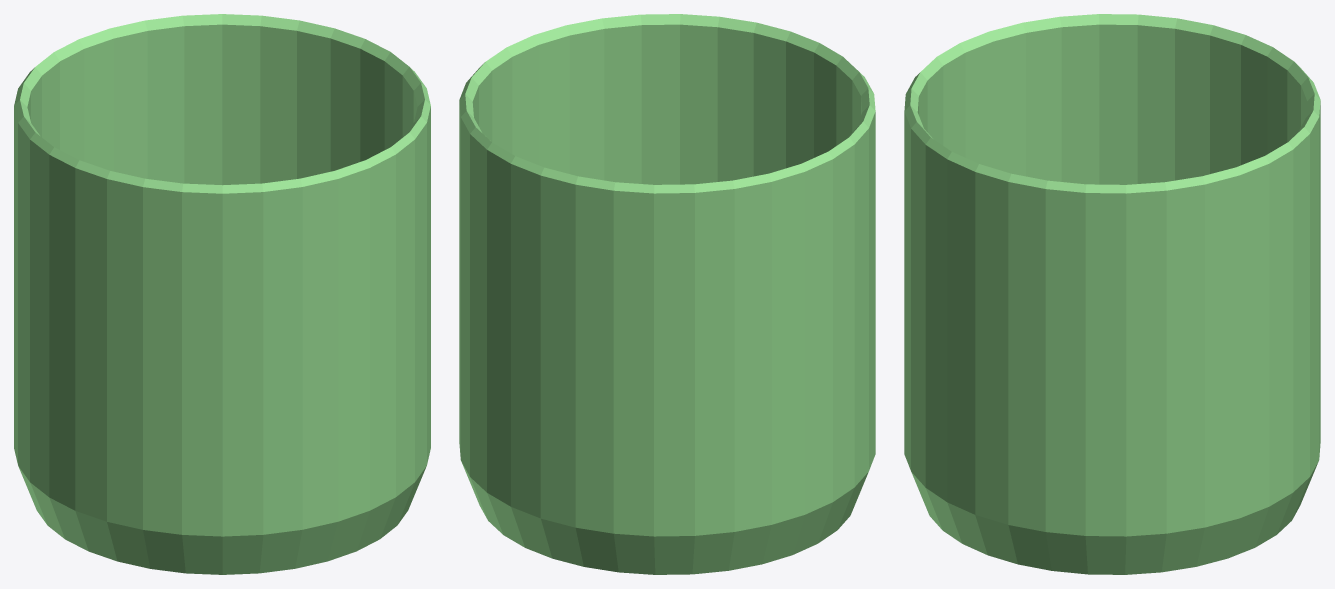
File: verre.fbx
The picture shows the model from 3 angles, left to right: view 1: azimuth 30°, elevation 25°; view 2: azimuth 150°, elevation 25°; view 3: azimuth 270°, elevation 25°; orthographic projection.
Parts seen in each view (by area): view 1: table.001; view 2: table.001; view 3: table.001.
Part boxes in pixels (x1,y1,x2,y2): table.001: [14, 14, 430, 574]; table.001: [459, 14, 875, 574]; table.001: [904, 14, 1320, 574].
Size of the model in its own units: 5.14 by 5.39 by 5.14.
